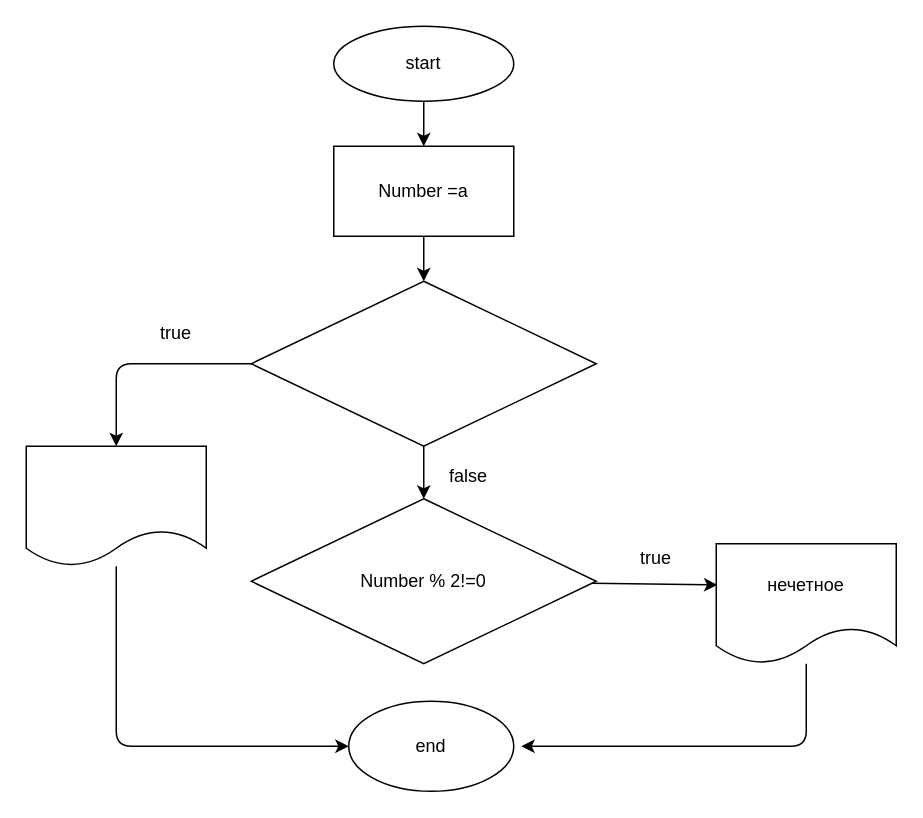
Some shapes in this 923 by 818 pixel diagram are drawn without their labels. Here are the shapes that lost their labels. From the top down, the box of each, then its label:
(250, 280, 596, 446): Number % 2==0
(25, 445, 206, 566): четное
